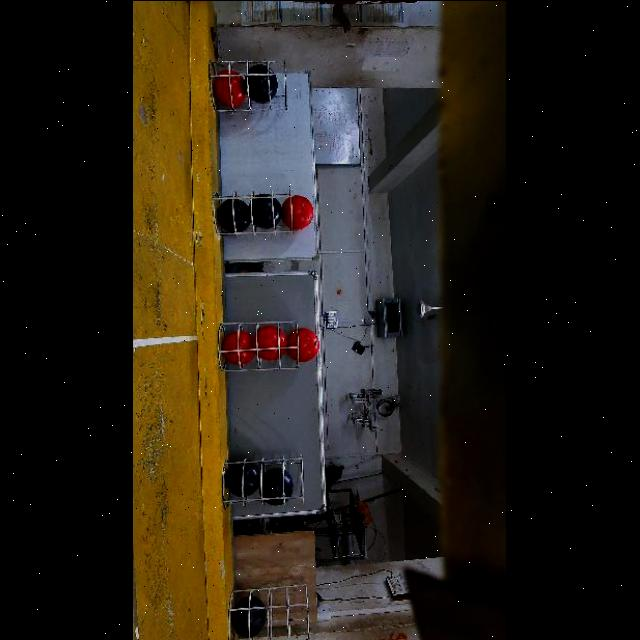P: (231, 596, 267, 638), (224, 463, 259, 498), (262, 467, 293, 506), (247, 63, 277, 103), (216, 198, 250, 232), (251, 193, 283, 228)
R: (211, 68, 246, 107), (281, 194, 314, 229), (286, 328, 319, 362), (257, 325, 288, 361), (222, 331, 254, 364)
S: (209, 54, 287, 116), (211, 180, 297, 236), (212, 322, 302, 374), (220, 456, 304, 508), (235, 587, 313, 639)
